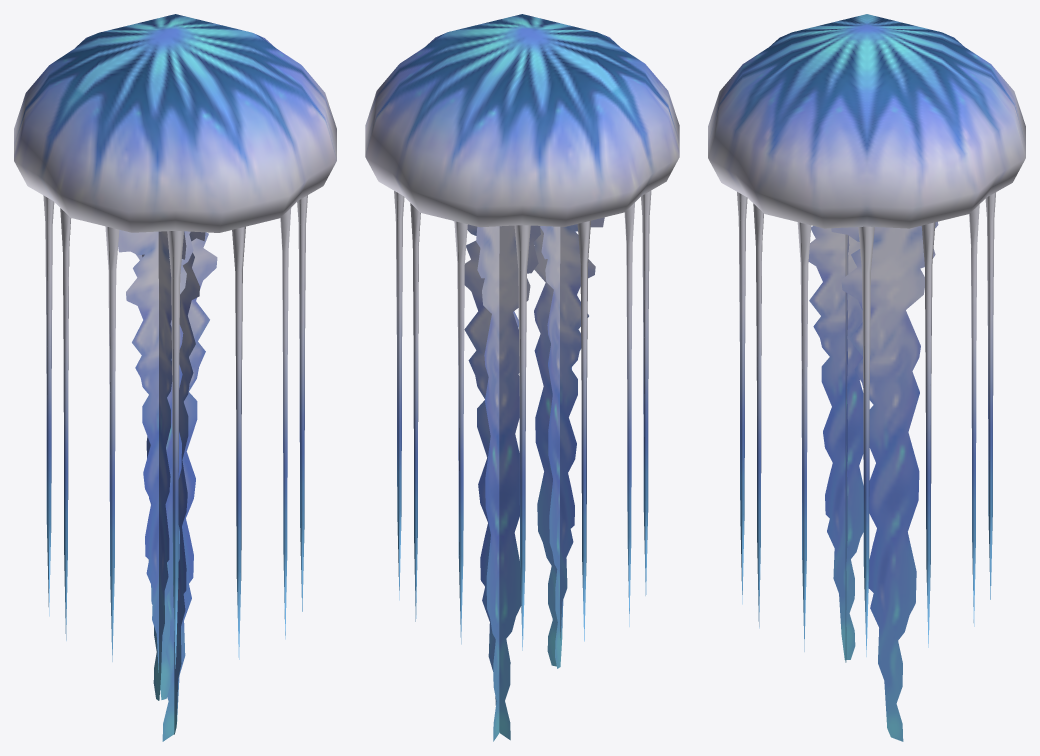
Rendered from f14_shuimu.FBX.
The picture shows the model from 3 angles, left to right: view 1: azimuth 30°, elevation 25°; view 2: azimuth 150°, elevation 25°; view 3: azimuth 270°, elevation 25°; orthographic projection. The views are drawn at different scales.
Parts seen in each view (by area): view 1: f14_shuimu; view 2: f14_shuimu; view 3: f14_shuimu.
Part boxes in pixels (<box>): f14_shuimu: <box>14,14,336,741</box>; f14_shuimu: <box>365,14,679,741</box>; f14_shuimu: <box>708,14,1025,741</box>.
Bounding box in the file's own units: 78.3 × 196 × 79.77.
Materials: 1 (1 with a texture image).
